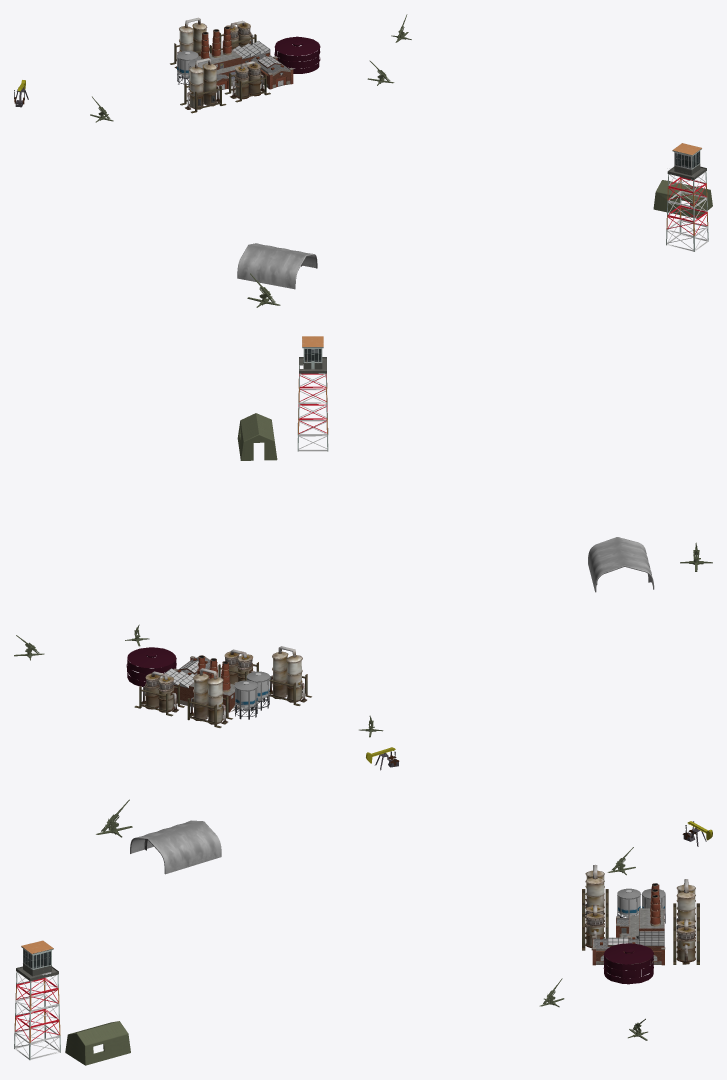
Rendered from Ploesti.glb.
3 renders of one model, top to bottom at view 1: azimuth 30°, elevation 25°; view 2: azimuth 150°, elevation 25°; view 3: azimuth 270°, elevation 25°, orthographic. The views are drawn at different scales.
Parts seen in each view (by area): view 1: Object_2, defaultMaterial.263, clothBuilding001_Material #67_0, Box001_Main Tent_0; view 2: Object_2, defaultMaterial.263, clothBuilding001_Material #67_0, Box001_Main Tent_0; view 3: Object_2, defaultMaterial.263, clothBuilding001_Material #67_0, Box001_Main Tent_0.
Part boxes in pixels (x1,y1,x2,y2): Object_2: (14, 17, 320, 113); defaultMaterial.263: (666, 143, 708, 251); clothBuilding001_Material #67_0: (237, 243, 317, 289); Box001_Main Tent_0: (653, 180, 712, 218); Object_2: (126, 646, 399, 770); defaultMaterial.263: (297, 336, 328, 451); clothBuilding001_Material #67_0: (588, 537, 654, 592); Box001_Main Tent_0: (237, 413, 277, 460); Object_2: (582, 821, 712, 984); defaultMaterial.263: (14, 940, 60, 1060); clothBuilding001_Material #67_0: (130, 820, 221, 874); Box001_Main Tent_0: (65, 1021, 130, 1065).
Bounding box in the file's own units: 206 × 41.82 × 254.
Materials: 24 (9 with a texture image).
